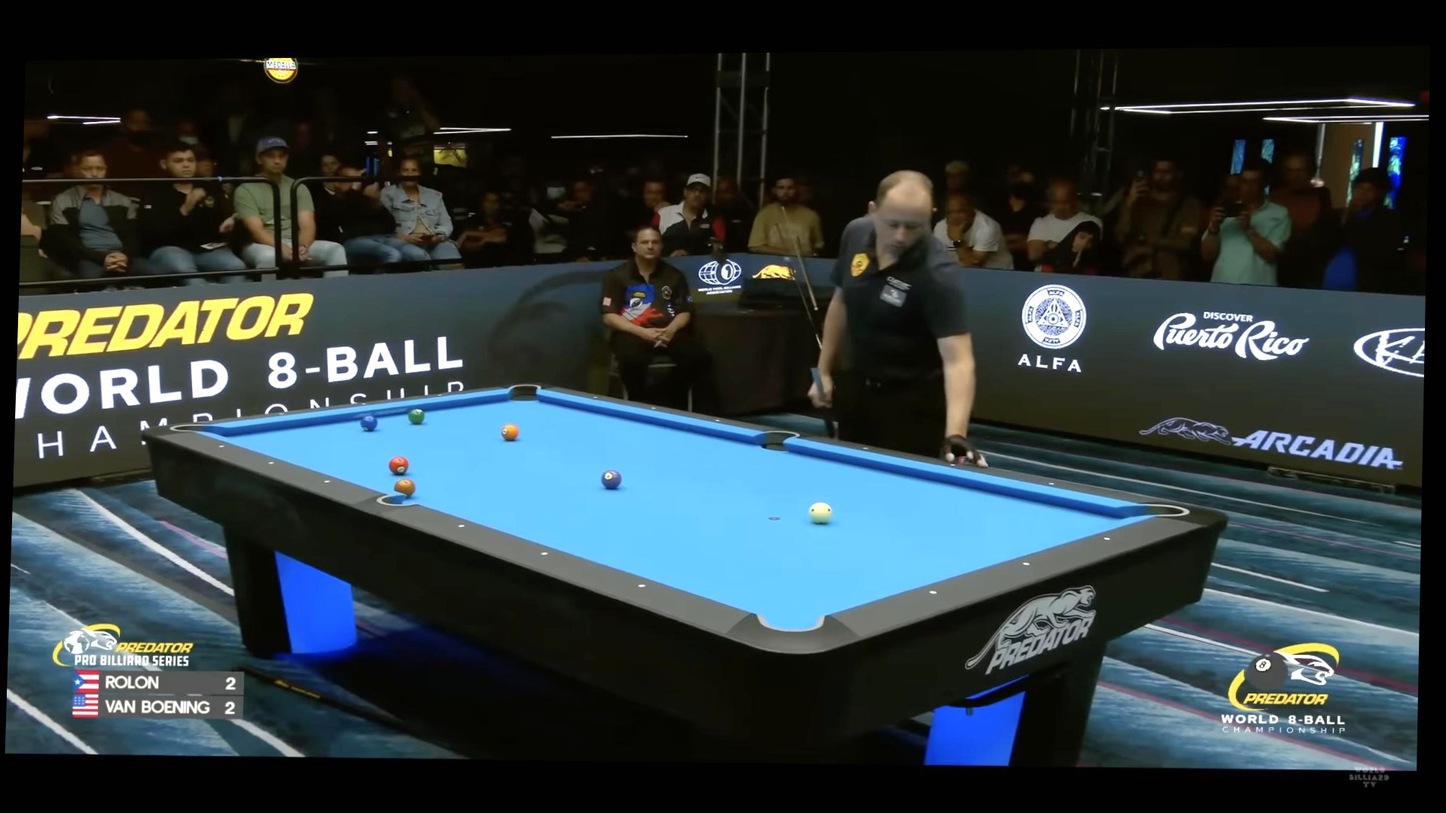Cue: (809, 502, 832, 524)
Solid: (635, 580, 648, 592), (455, 520, 467, 532), (538, 548, 551, 559), (265, 459, 276, 468), (216, 442, 227, 451), (1021, 560, 1031, 569), (1102, 534, 1112, 543), (1047, 479, 1057, 488), (948, 459, 958, 468), (323, 477, 333, 486), (928, 588, 937, 597), (861, 445, 870, 454), (277, 410, 286, 418), (436, 391, 444, 399), (360, 400, 368, 407), (592, 394, 598, 400), (715, 418, 721, 423), (650, 405, 656, 410)
Striped: (601, 469, 622, 489), (394, 478, 416, 497), (388, 455, 409, 474), (360, 415, 378, 432), (501, 424, 519, 440), (408, 409, 425, 424)
